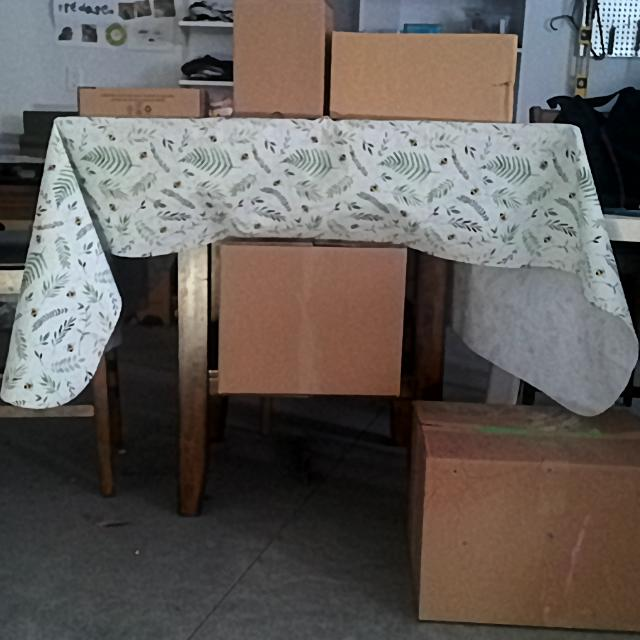box: (423, 454, 640, 627), (218, 245, 403, 393), (332, 32, 517, 120), (234, 0, 325, 116), (80, 88, 200, 117)
